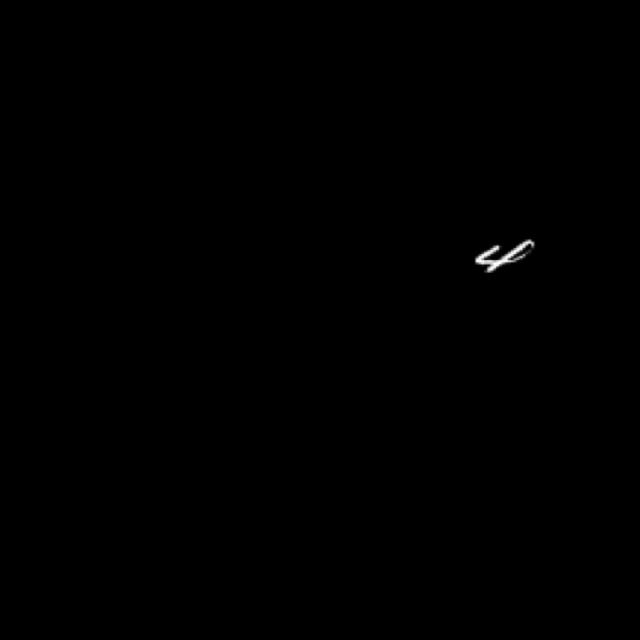four -4-: (456, 222, 547, 291)
